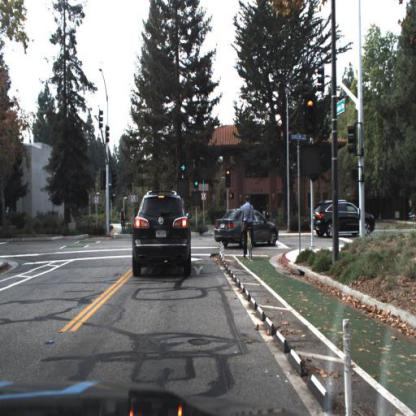biker: (241, 197, 255, 261), (118, 209, 129, 238)
car: (129, 185, 192, 273), (214, 209, 281, 253), (213, 209, 279, 251), (313, 203, 376, 243)
pedestrian: (271, 207, 279, 229)
trafficLight: (180, 150, 188, 175), (194, 175, 200, 193)
trafficLight-Red: (306, 98, 318, 137), (227, 169, 232, 190)
